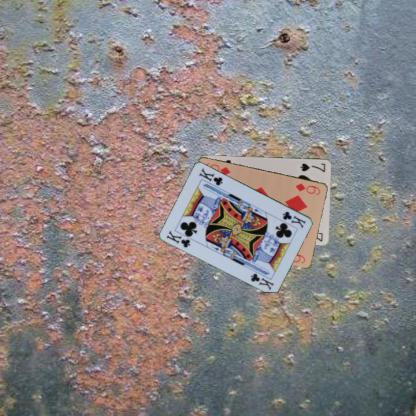6d: (293, 180, 322, 196)
7s: (298, 161, 326, 173)
Kc: (280, 209, 308, 230), (164, 228, 192, 249)
